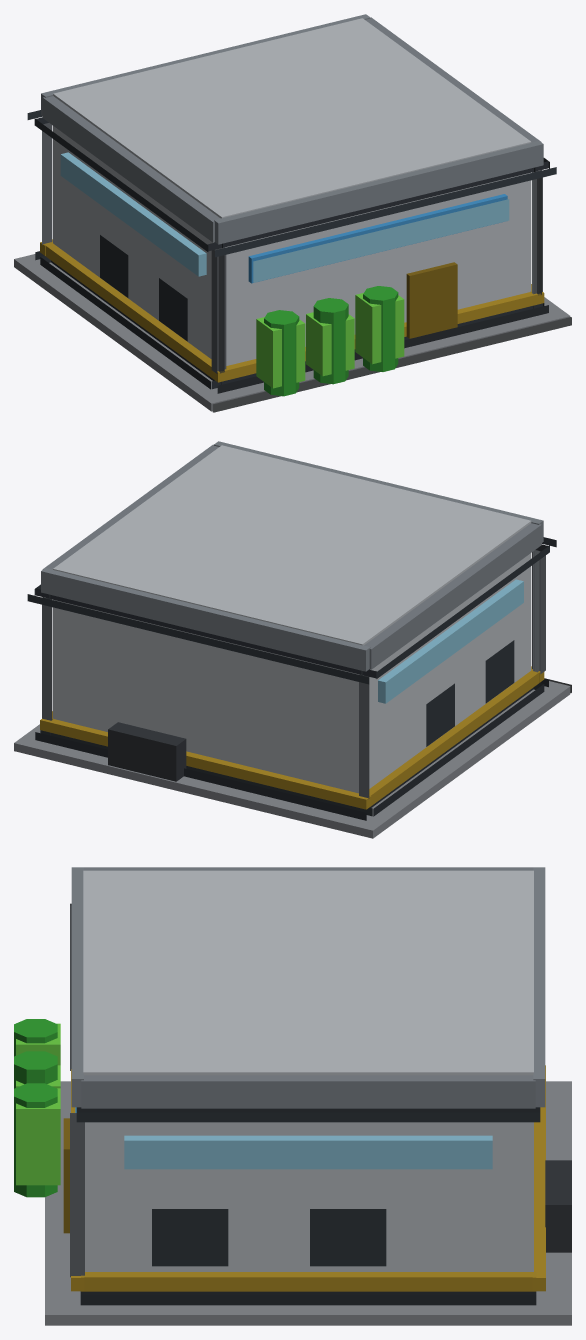
Rendered from MutantSodaSil.fbx.
3 renders of one model, top to bottom at view 1: azimuth 30°, elevation 25°; view 2: azimuth 150°, elevation 25°; view 3: azimuth 270°, elevation 25°, orthographic. The views are drawn at different scales.
Parts seen in each view (by area): view 1: LB_S_All; view 2: LB_S_All; view 3: LB_S_All.
Boxes of the visible parts, box(x1,y1,x2,y2) form: LB_S_All: box(14, 14, 571, 412); LB_S_All: box(14, 441, 571, 838); LB_S_All: box(14, 867, 571, 1325).
Bounding box in the file's own units: 42.04 × 19.9 × 42.4.
